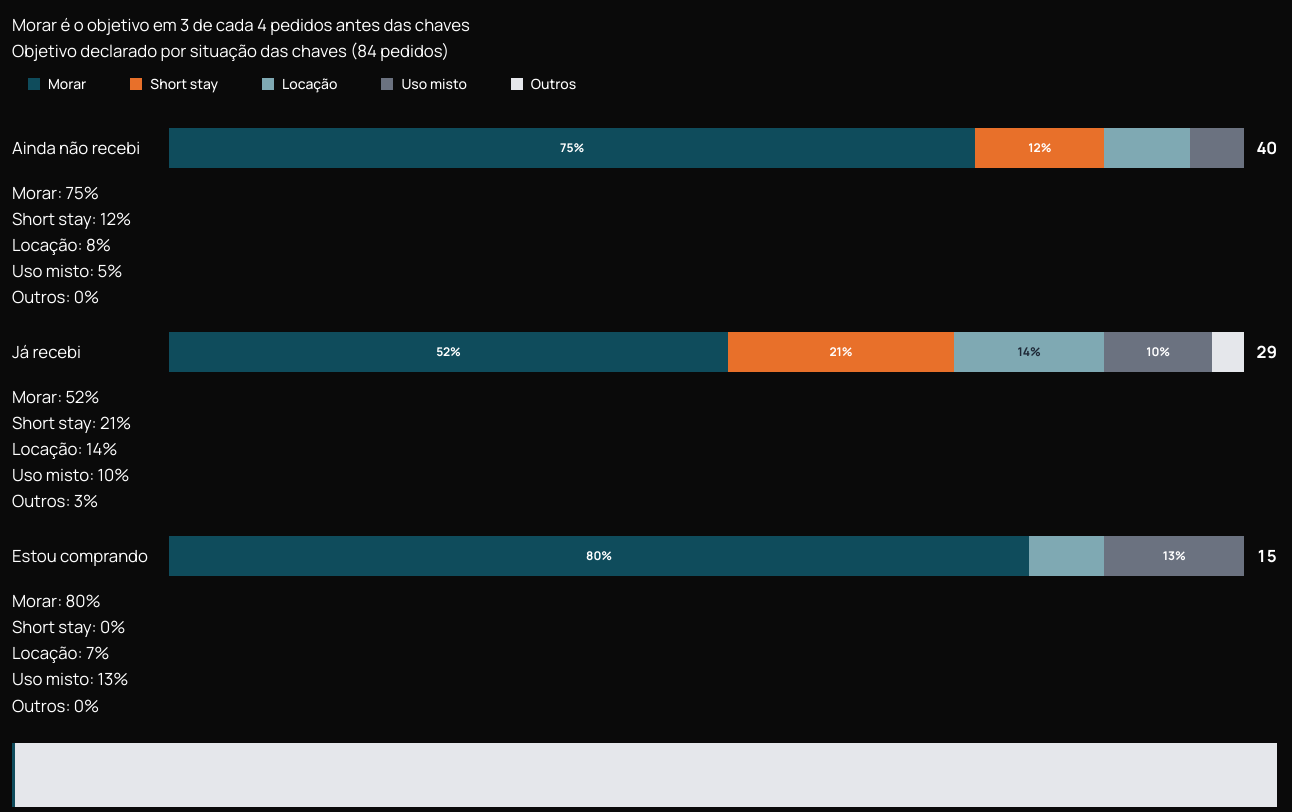
Test: interações dos gráficos › alterna a série sem mudar o percentual original
What coordinates should you click on to do the following:
click the button "Morar"
I would click on:
 (57, 84)
Its box is [12,64,102,104].
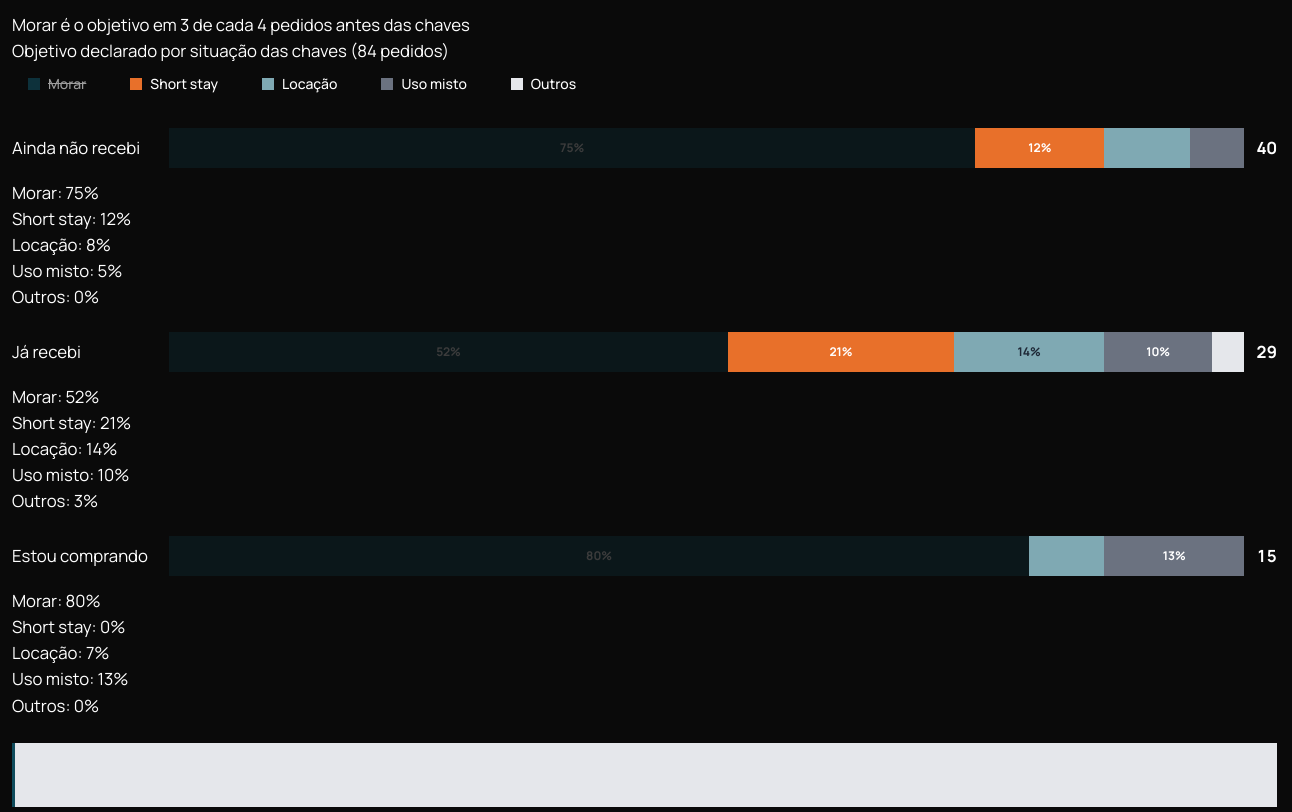
Expected: the text named "Ainda não recebi, Morar: 75%" reads "75%", [560,139,584,156]
Now the button "Morar" is not pressed
Now the element that starts with "Morar" has attribute data-muted="0"
What coordinates should you click on to do the following:
click the button "Morar"
I would click on:
 (57, 84)
Its box is [12,64,102,104].
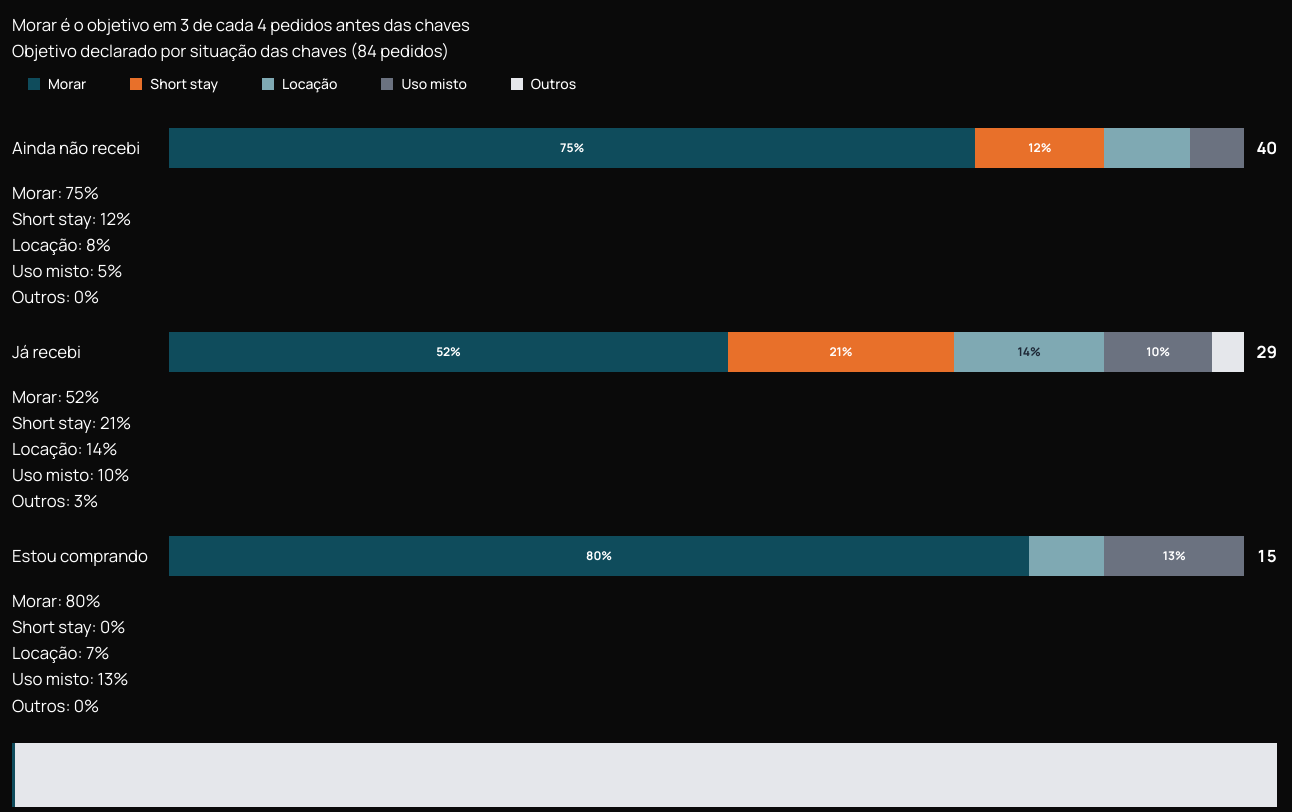
Now the button "Morar" is pressed, box [12,64,102,104]
